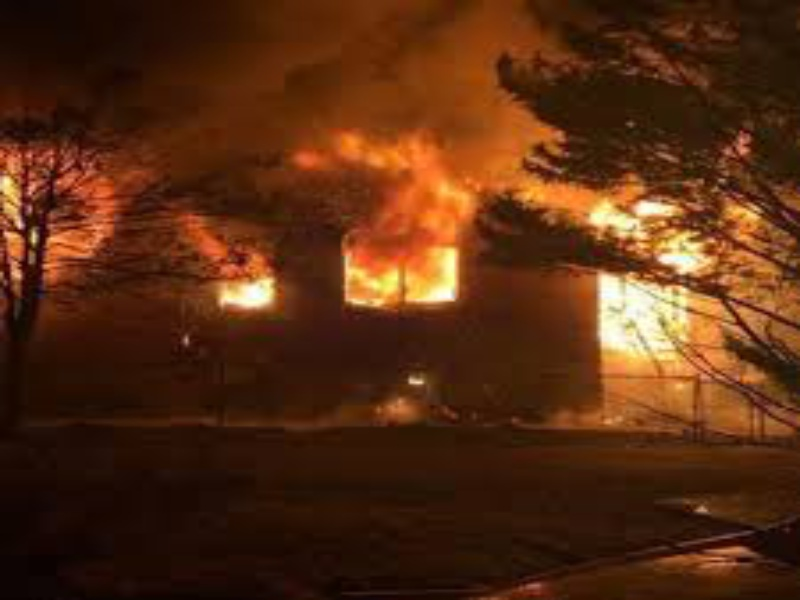fire: (590, 181, 692, 351), (351, 246, 457, 305), (219, 259, 271, 310)
